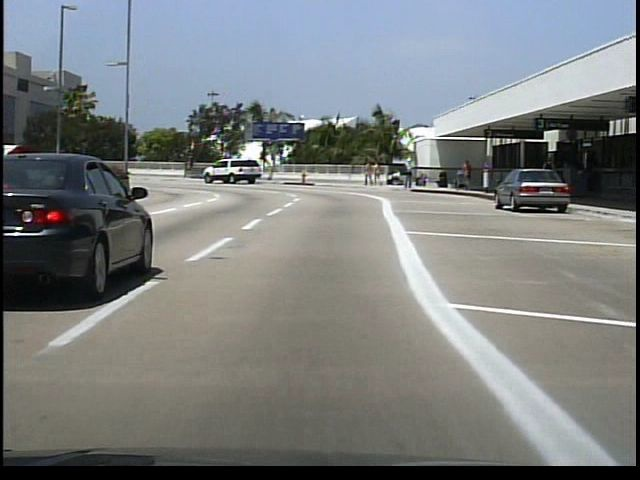person: (539, 154, 559, 201), (462, 160, 476, 191), (405, 156, 416, 192), (365, 161, 375, 189), (374, 160, 383, 188)
